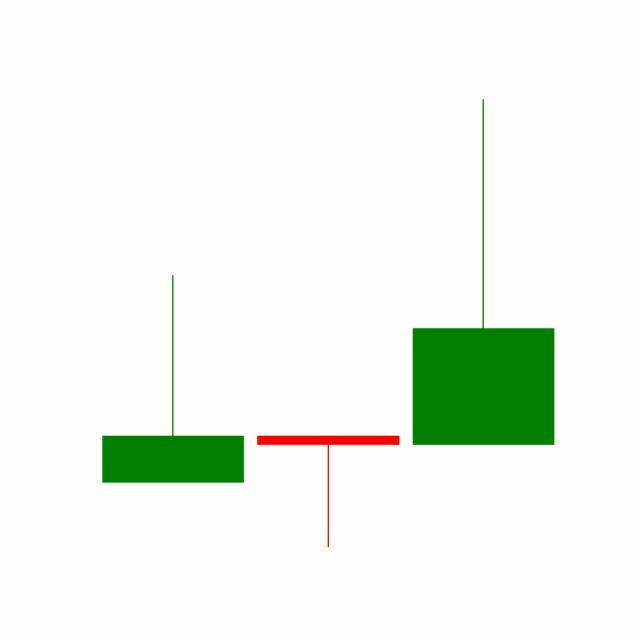Hammer: (250, 435, 407, 549)
